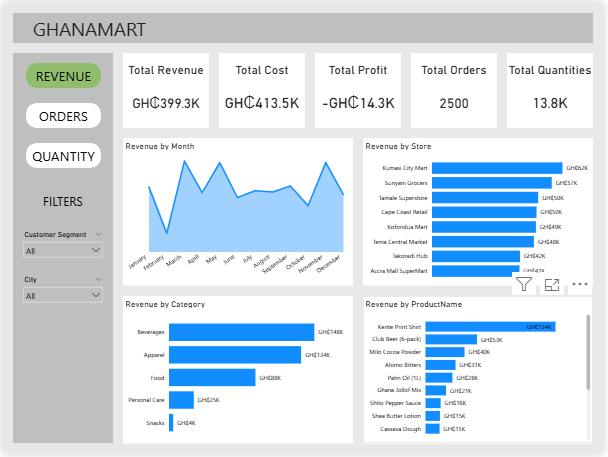

The page's visual inventory and layout, read from the dashboard file:
{"tool":"powerbi","page":{"name":"Page 1","canvas":[1200,900],"ordinal":0},"visuals":[{"type":"shape","box":[20,20,1160,60],"z":0},{"type":"shape","box":[20,100,200,780],"z":1000},{"type":"card","title":"Total Revenue","fields":{"Values":["Customer_Dim.Revenue"]},"box":[240,100,172,150],"z":2000},{"type":"card","title":"Total Cost","fields":{"Values":["Customer_Dim.Cost"]},"box":[432,100,172,150],"z":3000},{"type":"card","title":"Total Profit","fields":{"Values":["Customer_Dim.Profit"]},"box":[624,100,172,150],"z":4000},{"type":"card","title":"Total Orders","fields":{"Values":["Customer_Dim.Orders"]},"box":[816,100,172,150],"z":5000},{"type":"card","title":"Total Quantities","fields":{"Values":["Customer_Dim.Total Quantity"]},"box":[1008,100,172,150],"z":6000},{"type":"areaChart","fields":{"Y":["Customer_Dim.Revenue"],"Category":["Fact_Sales.OrderDate.Variation.Date Hierarchy.Month"]},"box":[240,270,460,295],"z":7000},{"type":"barChart","fields":{"Y":["Customer_Dim.Revenue"],"Category":["Store_Dim.StoreName"]},"box":[720,270,460,295],"z":8000},{"type":"barChart","fields":{"Y":["Customer_Dim.Revenue"],"Category":["Product_DIm.Category"]},"box":[240,585,460,295],"z":9000},{"type":"barChart","fields":{"Y":["Customer_Dim.Revenue"],"Category":["Product_DIm.ProductName"]},"box":[720,585,460,295],"z":11000},{"type":"actionButton","box":[45,120,150,50],"z":12000},{"type":"textbox","box":[50,25,600,50],"z":15000},{"type":"textbox","box":[20,370,200,50],"z":16000},{"type":"slicer","fields":{"Values":["Customer_Dim.CustomerSegment"]},"box":[30,450,180,80],"z":17000},{"type":"slicer","fields":{"Values":["Store_Dim.City"]},"box":[30,540,180,80],"z":18000},{"type":"actionButton","box":[45,200,150,50],"z":20000},{"type":"actionButton","box":[45,280,150,50],"z":21000}]}

Visuals, with their boxes in screenshot pixels (x1, y1, x2, y2), scaled from the page's 1200x900 canvas onto the 608x457 screenshot:
shape: [10,10,598,41]
shape: [10,51,111,447]
"Total Revenue" card: [122,51,209,127]
"Total Cost" card: [219,51,306,127]
"Total Profit" card: [316,51,403,127]
"Total Orders" card: [413,51,501,127]
"Total Quantities" card: [511,51,598,127]
areaChart - Customer_Dim.Revenue x Fact_Sales.OrderDate.Variation.Date Hierarchy.Month: [122,137,355,287]
barChart - Customer_Dim.Revenue x Store_Dim.StoreName: [365,137,598,287]
barChart - Customer_Dim.Revenue x Product_DIm.Category: [122,297,355,447]
barChart - Customer_Dim.Revenue x Product_DIm.ProductName: [365,297,598,447]
actionButton: [23,61,99,86]
textbox: [25,13,329,38]
textbox: [10,188,111,213]
slicer - Customer_Dim.CustomerSegment: [15,228,106,269]
slicer - Store_Dim.City: [15,274,106,315]
actionButton: [23,102,99,127]
actionButton: [23,142,99,168]
